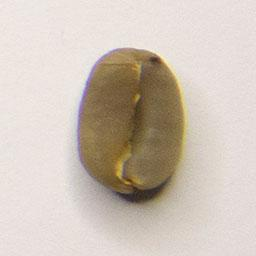premium: (72, 45, 190, 198)
